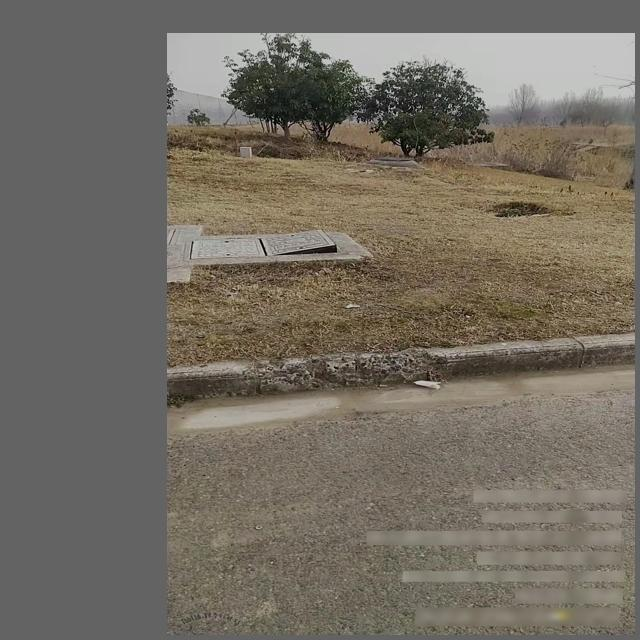uncovered: (190, 227, 349, 260)
